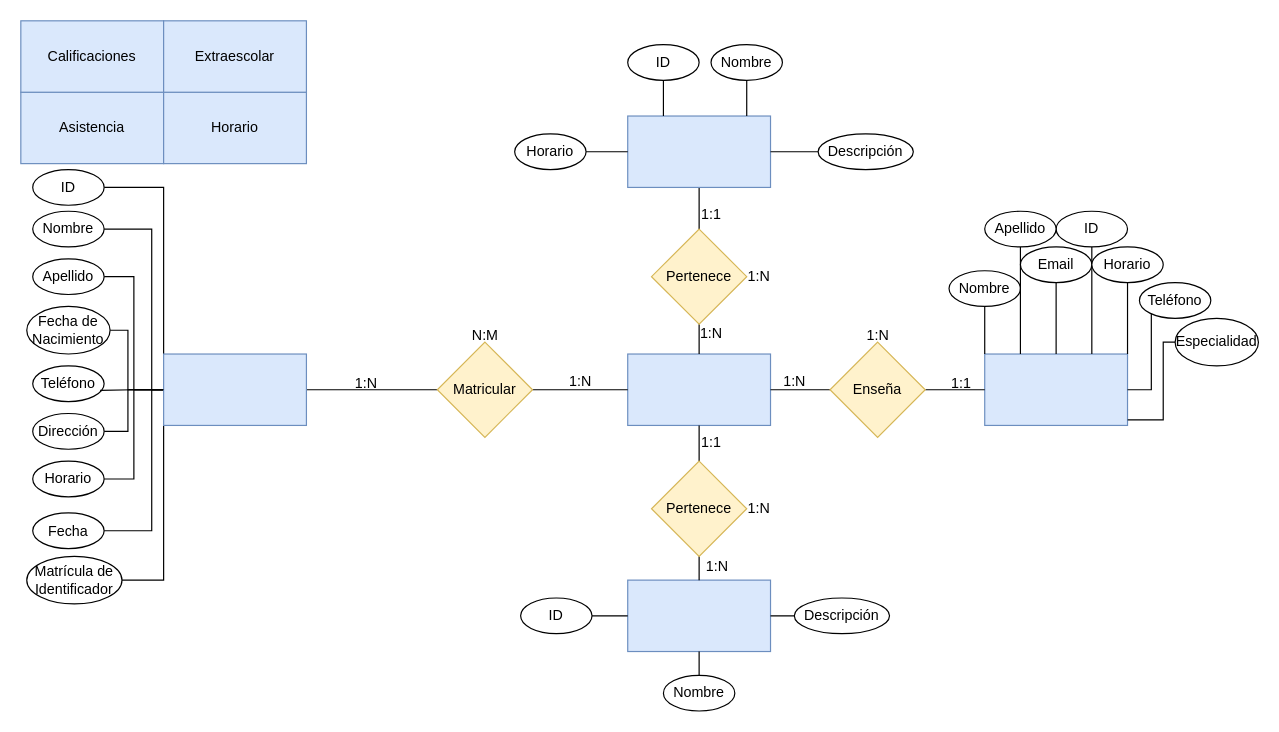
Image size: 1279x732. Some labels were removed from this diagram. The centre of each missing label's shape, as x and y in pixels:
Aula: the point at 699,615
Curso: the point at 699,389
Estudiante: the point at 234,389
Materia: the point at 699,151
Profesor: the point at 1056,389
